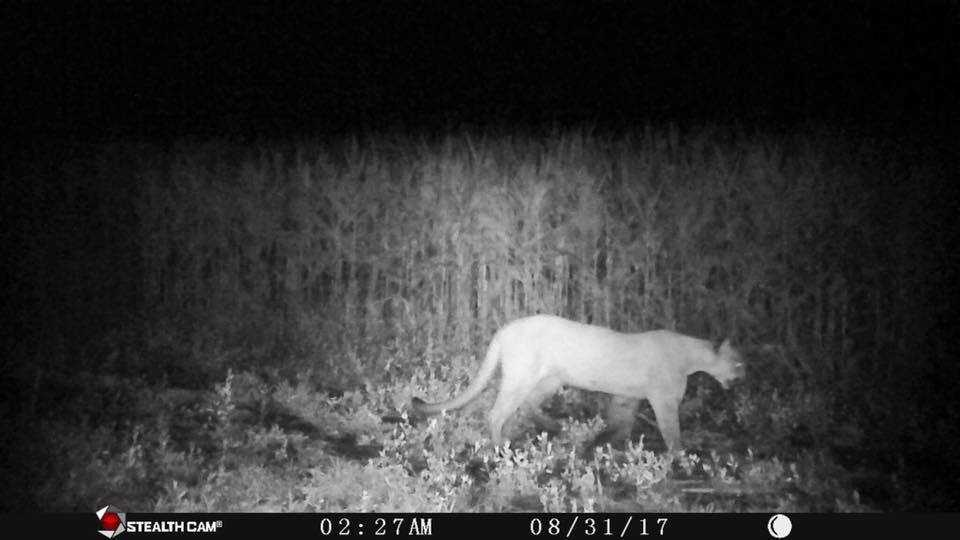mountain lion: (394, 289, 762, 467)
